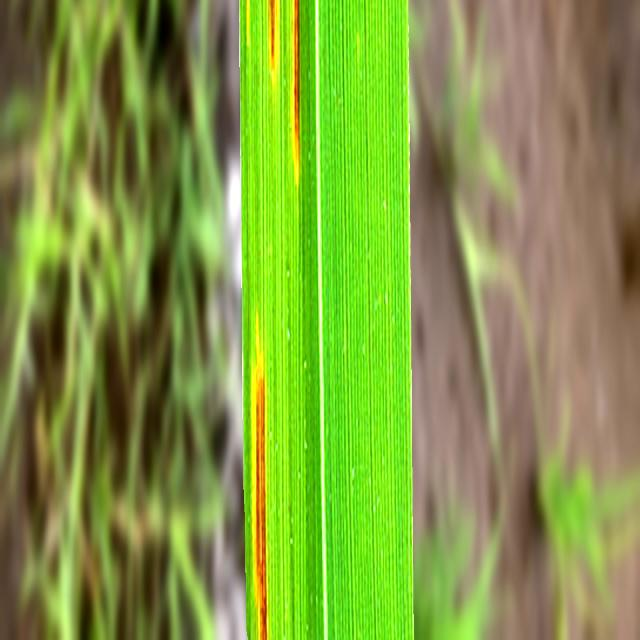NBS: (260, 377, 267, 638), (256, 390, 261, 595), (294, 0, 299, 154), (270, 0, 275, 68)
